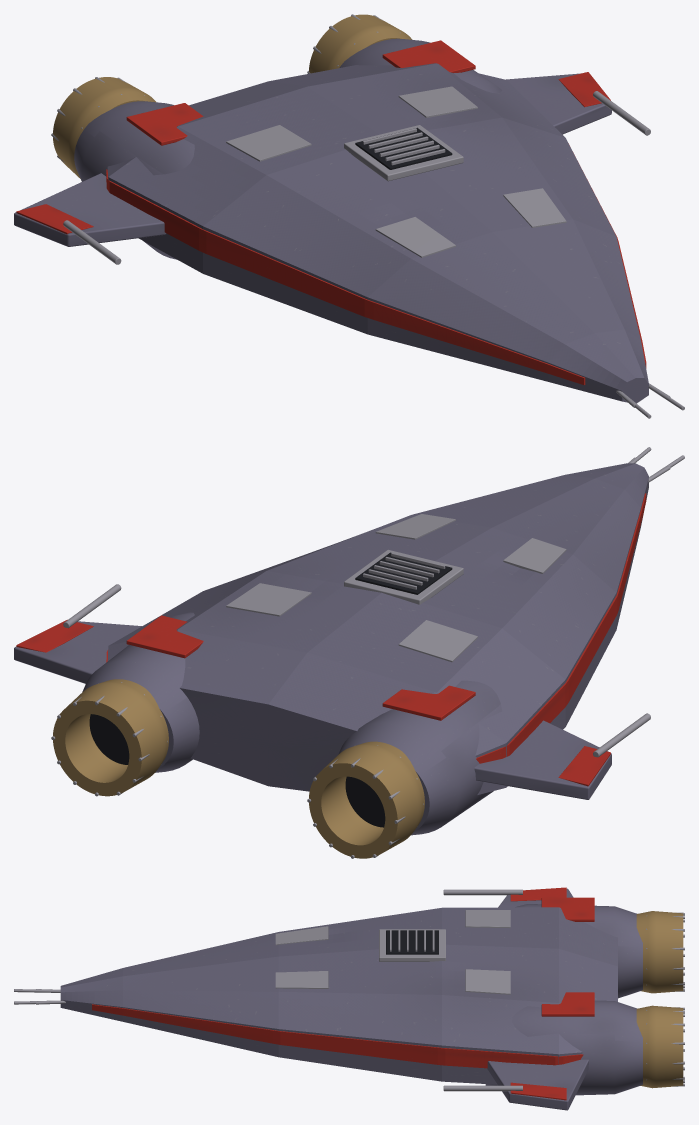
3 views of the same model, one above another, from view 1: azimuth 30°, elevation 25°; view 2: azimuth 150°, elevation 25°; view 3: azimuth 270°, elevation 25° (orthographic). The views are drawn at different scales.
Parts seen in each view (by area): view 1: Destructor continuous faceted hull, Destructor red flank -1, Destructor aft engine housing -1, Destructor outboard wing -1, Destructor exhaust -1, Destructor outboard wing 1, Destructor exhaust 1, Destructor dorsal vent surround, Destructor aft red panel -1, Destructor crown service plate -1 0.5, Destructor aft red panel 1, Destructor crown service plate -1 -0.72 (+6 smaller); view 2: Destructor continuous faceted hull, Destructor aft engine housing -1, Destructor exhaust 1, Destructor exhaust -1, Destructor aft engine housing 1, Destructor outboard wing -1, Destructor outboard wing 1, Destructor red flank -1, Destructor aft red panel -1, Destructor crown service plate -1 0.5, Destructor aft red panel 1, Destructor crown service plate 1 0.5 (+8 smaller); view 3: Destructor continuous faceted hull, Destructor aft engine housing 1, Destructor red flank 1, Destructor exhaust 1, Destructor exhaust -1, Destructor outboard wing 1, Destructor aft engine housing -1, Destructor dorsal vent well, Destructor crown service plate 1 0.5, Destructor aft red panel 1, Destructor aft red panel -1, Destructor dorsal vent surround (+7 smaller).
Part boxes in pixels (x1,y1,x2,y2): Destructor continuous faceted hull: (107, 63, 648, 403); Destructor red flank -1: (106, 169, 585, 384); Destructor aft engine housing -1: (74, 101, 194, 259); Destructor outboard wing -1: (14, 173, 166, 246); Destructor exhaust -1: (53, 77, 155, 178); Destructor outboard wing 1: (506, 73, 611, 134); Destructor exhaust 1: (309, 14, 412, 73); Destructor dorsal vent surround: (344, 125, 463, 181); Destructor aft red panel -1: (126, 103, 203, 145); Destructor crown service plate -1 0.5: (226, 125, 311, 161); Destructor aft red panel 1: (382, 40, 475, 72); Destructor crown service plate -1 -0.72: (375, 217, 455, 257); Destructor continuous faceted hull: (107, 463, 648, 794); Destructor aft engine housing -1: (338, 680, 501, 835); Destructor exhaust 1: (53, 679, 168, 796); Destructor exhaust -1: (309, 741, 424, 858); Destructor aft engine housing 1: (82, 612, 199, 772); Destructor outboard wing -1: (474, 720, 611, 799); Destructor outboard wing 1: (14, 621, 141, 683); Destructor red flank -1: (476, 493, 646, 763); Destructor aft red panel -1: (382, 685, 475, 720); Destructor crown service plate -1 0.5: (398, 620, 477, 662); Destructor aft red panel 1: (126, 615, 203, 658); Destructor crown service plate 1 0.5: (226, 583, 311, 616); Destructor continuous faceted hull: (60, 907, 617, 1084); Destructor aft engine housing 1: (485, 1000, 642, 1095); Destructor red flank 1: (92, 1004, 583, 1068); Destructor exhaust 1: (636, 1005, 683, 1088); Destructor exhaust -1: (636, 911, 683, 993); Destructor outboard wing 1: (487, 1059, 588, 1110); Destructor aft engine housing -1: (515, 904, 642, 998); Destructor dorsal vent well: (386, 930, 438, 954); Destructor crown service plate 1 0.5: (465, 969, 510, 994); Destructor aft red panel 1: (541, 992, 594, 1016); Destructor aft red panel -1: (541, 897, 594, 921); Destructor dorsal vent surround: (379, 929, 445, 961).
Bounding box in the file's own units: 3.24 × 0.74 × 4.31.
Materials: 5 (2 with a texture image).
